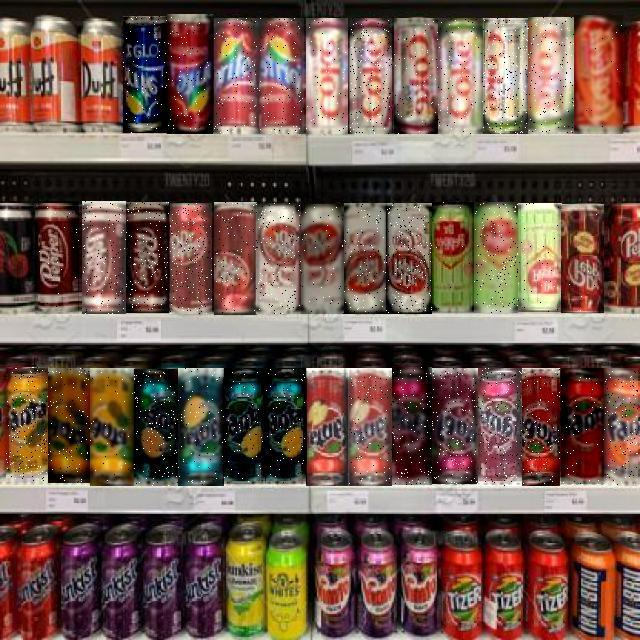Drinks: (574, 15, 623, 134), (167, 15, 213, 135), (178, 368, 224, 486), (476, 368, 522, 486), (214, 18, 260, 134), (260, 18, 306, 134), (438, 18, 484, 134), (528, 18, 574, 134), (90, 368, 135, 486), (123, 16, 168, 133), (433, 368, 478, 484), (483, 18, 528, 134), (36, 201, 82, 314), (348, 368, 392, 486), (134, 369, 178, 486), (386, 203, 432, 314), (394, 18, 438, 134), (306, 368, 349, 486), (562, 204, 608, 313), (256, 203, 301, 314), (563, 368, 606, 484), (223, 368, 266, 484), (82, 201, 126, 314), (522, 368, 564, 486), (392, 367, 434, 485), (6, 368, 49, 482), (474, 202, 518, 313), (265, 368, 307, 484), (306, 18, 348, 134), (350, 18, 392, 134), (214, 202, 257, 315), (48, 368, 90, 483), (518, 203, 562, 312), (126, 202, 169, 313), (344, 203, 387, 314), (301, 204, 344, 314), (170, 203, 212, 314), (432, 202, 474, 313), (605, 368, 639, 486)
